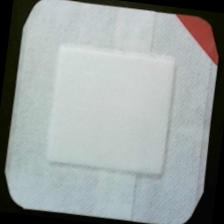Dressing: (1, 1, 224, 224)
Red_T: (170, 12, 224, 67)
